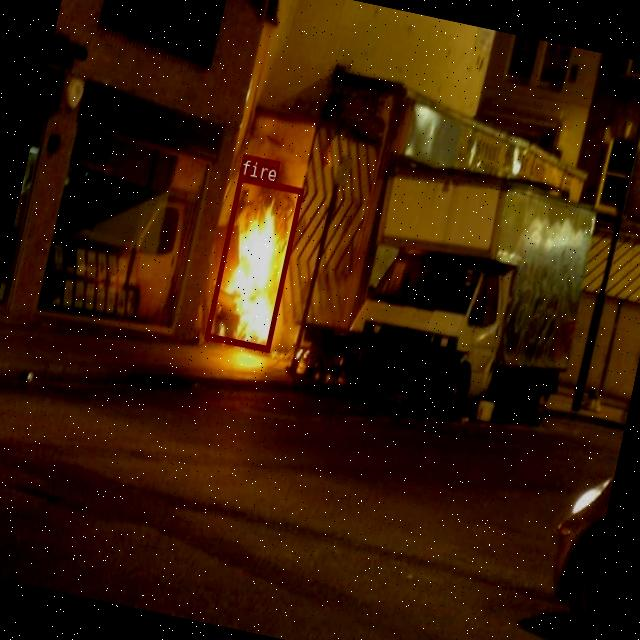fire: (204, 174, 302, 351)
